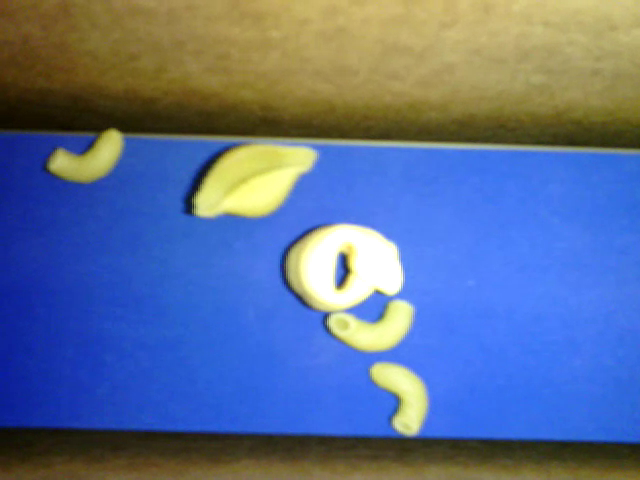elbow: (325, 298, 414, 351), (369, 359, 428, 435), (47, 126, 123, 184)
shell: (194, 143, 318, 219)
tortellini: (282, 223, 403, 309)
